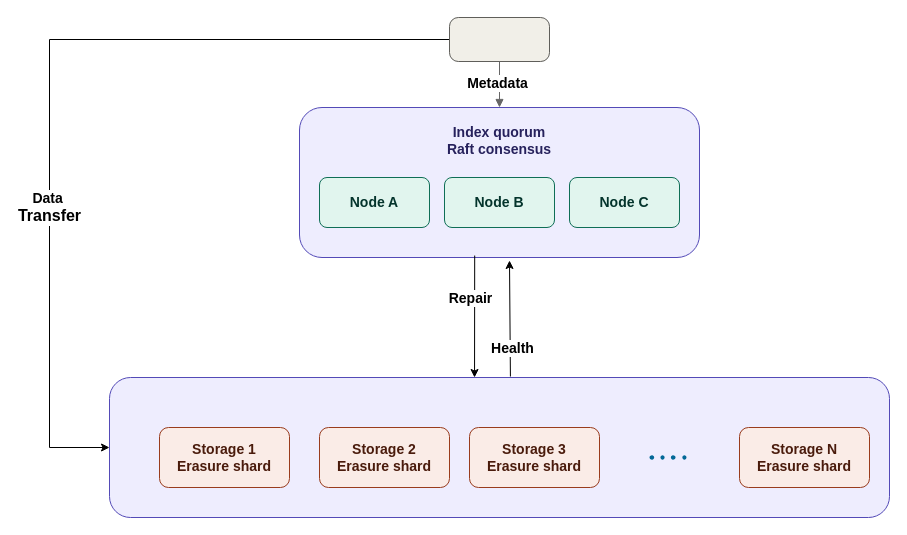
Some shapes in this 907 by 535 pixel diagram are drawn without their labels. Here are the shapes that lost their labels. From the top down, the box of each, then its label:
(448, 16, 550, 62): Client
(108, 376, 890, 518): Storage Layer
